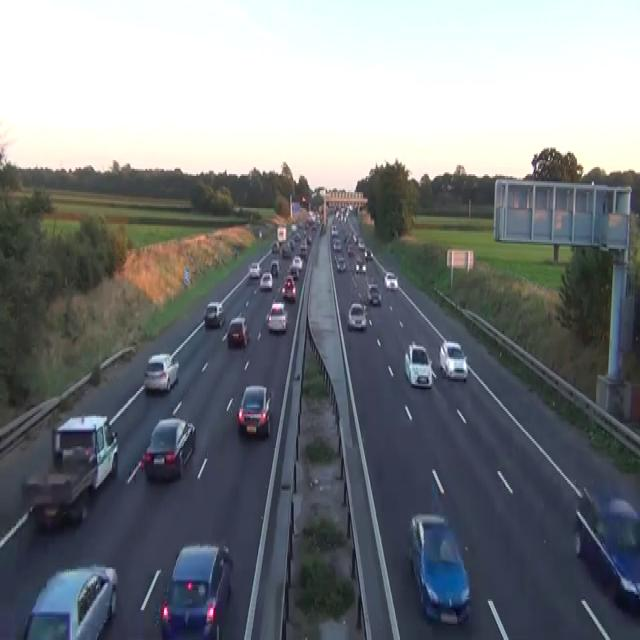Car: (574, 482, 639, 606), (408, 512, 471, 624), (22, 564, 117, 638), (159, 542, 232, 638), (51, 414, 118, 489), (23, 469, 90, 532), (142, 416, 196, 482), (237, 384, 271, 437), (143, 352, 179, 393), (22, 610, 71, 638), (404, 342, 432, 388), (439, 340, 468, 380), (227, 314, 248, 346), (266, 300, 287, 332), (346, 302, 367, 331), (203, 301, 225, 327), (281, 276, 296, 300), (366, 282, 381, 306), (383, 270, 398, 290), (259, 270, 272, 290), (335, 254, 346, 272), (249, 262, 261, 278), (270, 258, 280, 276), (292, 254, 303, 270), (355, 258, 366, 274), (288, 265, 299, 279), (281, 244, 291, 258), (364, 247, 373, 260), (332, 237, 341, 250), (299, 242, 307, 256), (271, 240, 279, 252), (288, 238, 295, 251), (357, 238, 365, 249), (331, 224, 338, 236), (319, 222, 325, 235), (347, 245, 354, 256), (294, 231, 301, 242), (231, 247, 237, 258), (293, 372, 300, 381), (233, 204, 240, 213), (300, 196, 306, 206), (352, 233, 358, 242), (306, 234, 312, 243), (290, 224, 297, 231), (258, 228, 262, 238)
Truck: (23, 412, 118, 532), (276, 226, 286, 242)
